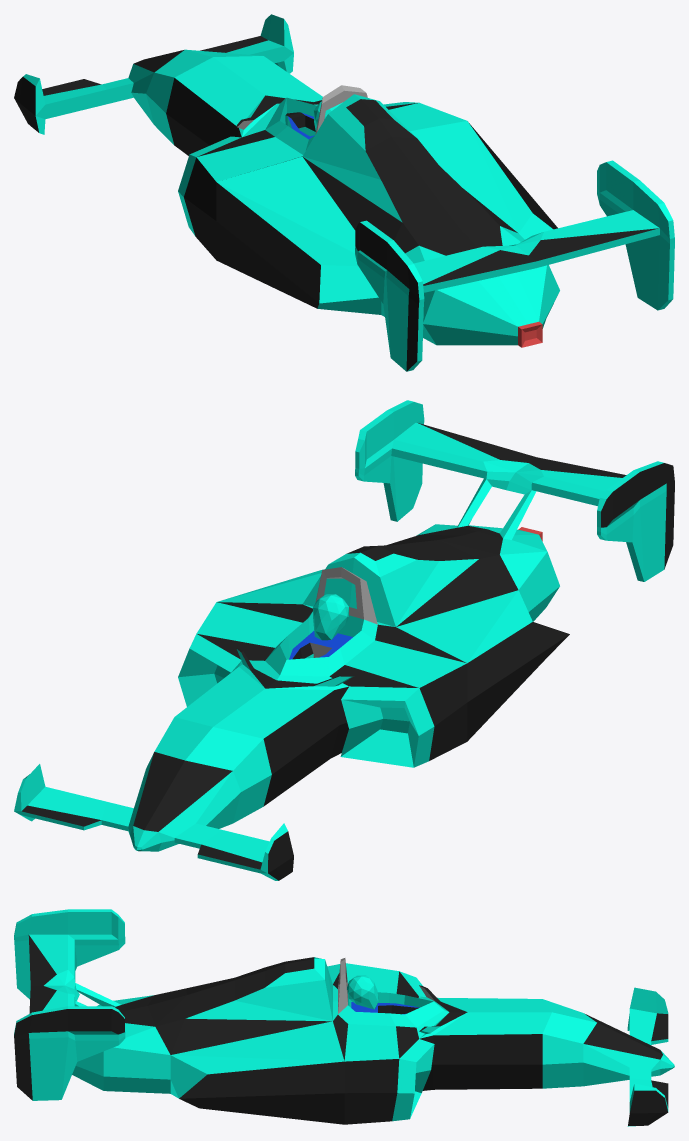
The picture shows the model from 3 angles, top to bottom: view 1: azimuth 30°, elevation 25°; view 2: azimuth 150°, elevation 25°; view 3: azimuth 270°, elevation 25°; orthographic projection. The views are drawn at different scales.
Visible parts, largest first — view 1: WheelFront.011; view 2: WheelFront.011; view 3: WheelFront.011.
Boxes of the visible parts, x1,y1,x2,y2 form: WheelFront.011: [14, 14, 674, 371]; WheelFront.011: [14, 400, 674, 880]; WheelFront.011: [14, 909, 674, 1126].
Size of the model in its own units: 8378 by 4606 by 23035.
